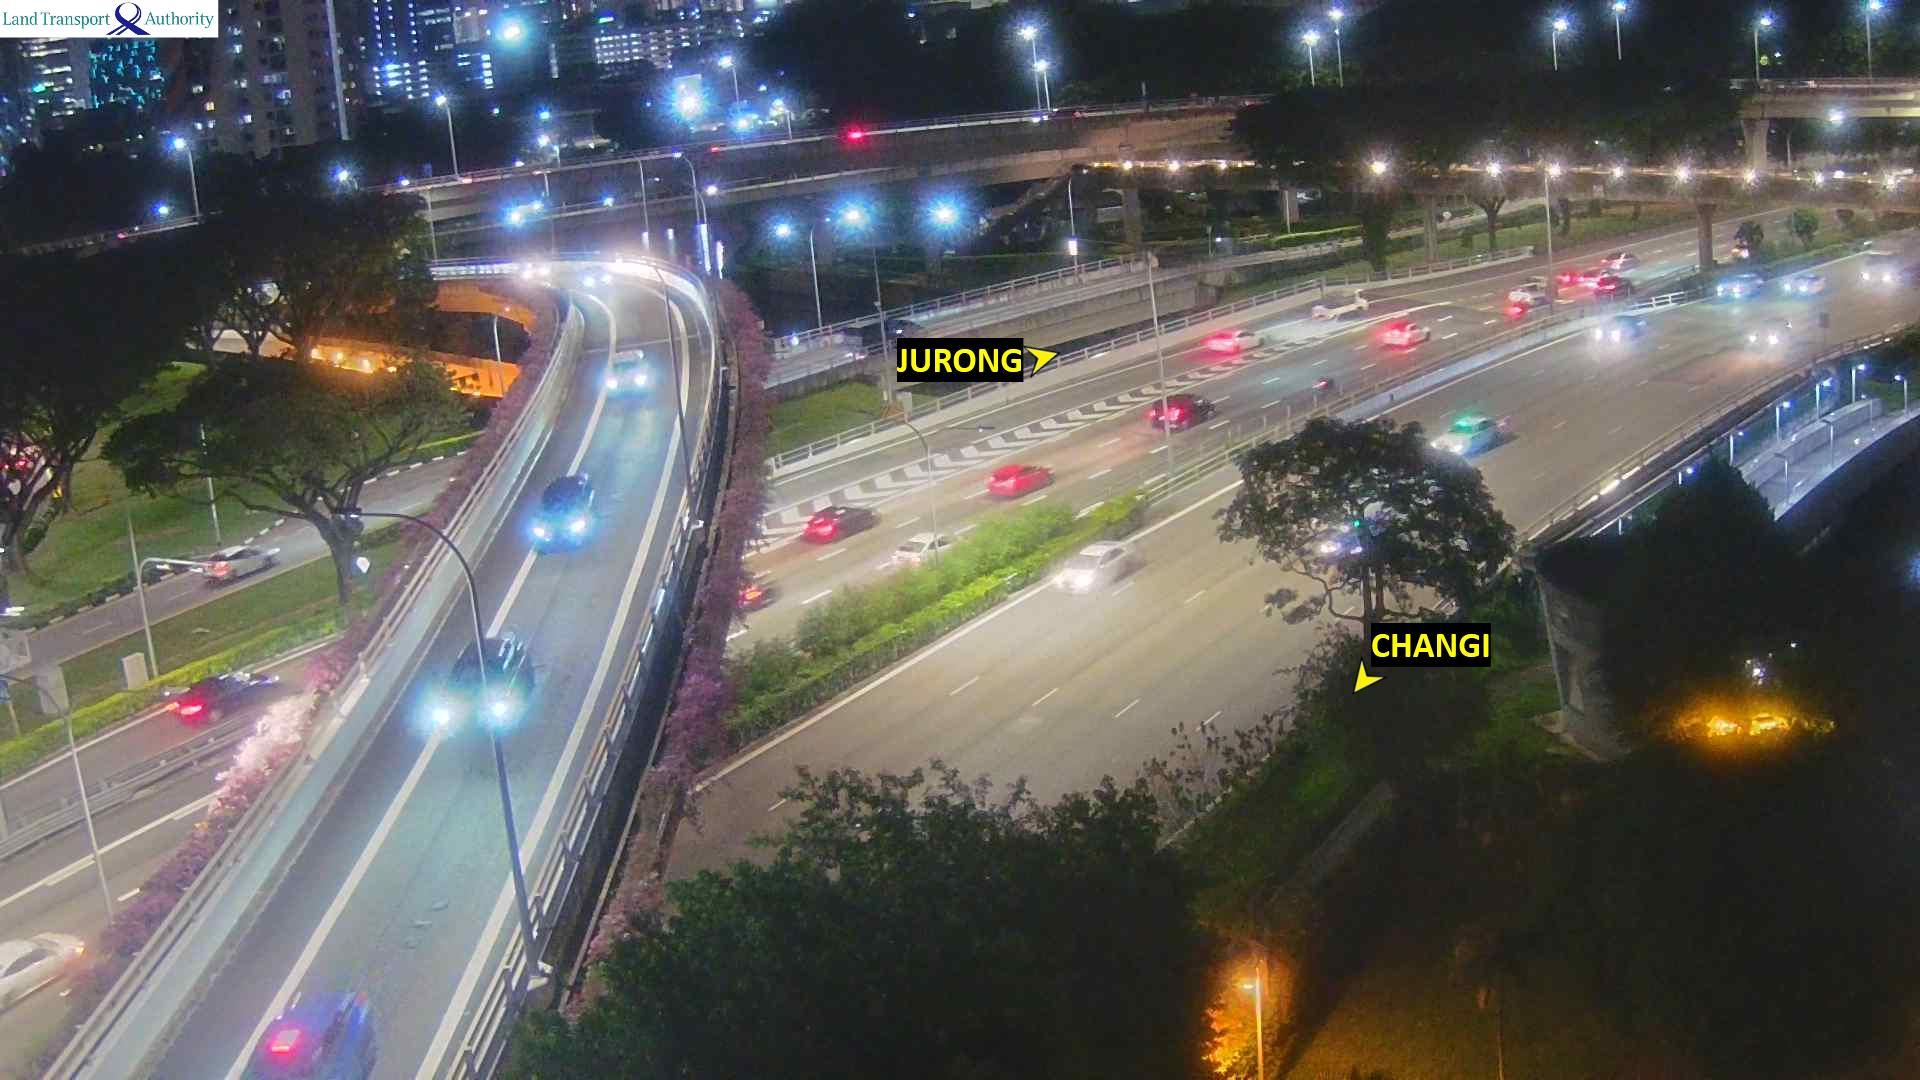incoming: (431, 649, 522, 745), (216, 1026, 349, 1079), (521, 493, 604, 559), (1056, 549, 1116, 600), (599, 353, 655, 398), (1427, 417, 1480, 456), (1855, 251, 1899, 286), (1714, 270, 1756, 303), (1747, 319, 1788, 348), (1780, 273, 1817, 301), (520, 256, 556, 284), (1594, 316, 1629, 343), (583, 268, 616, 291)
